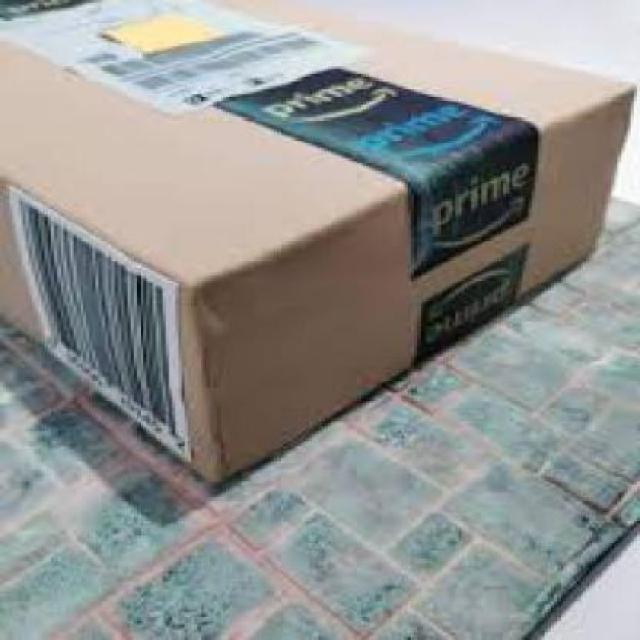cardboxes: (0, 0, 637, 492)
